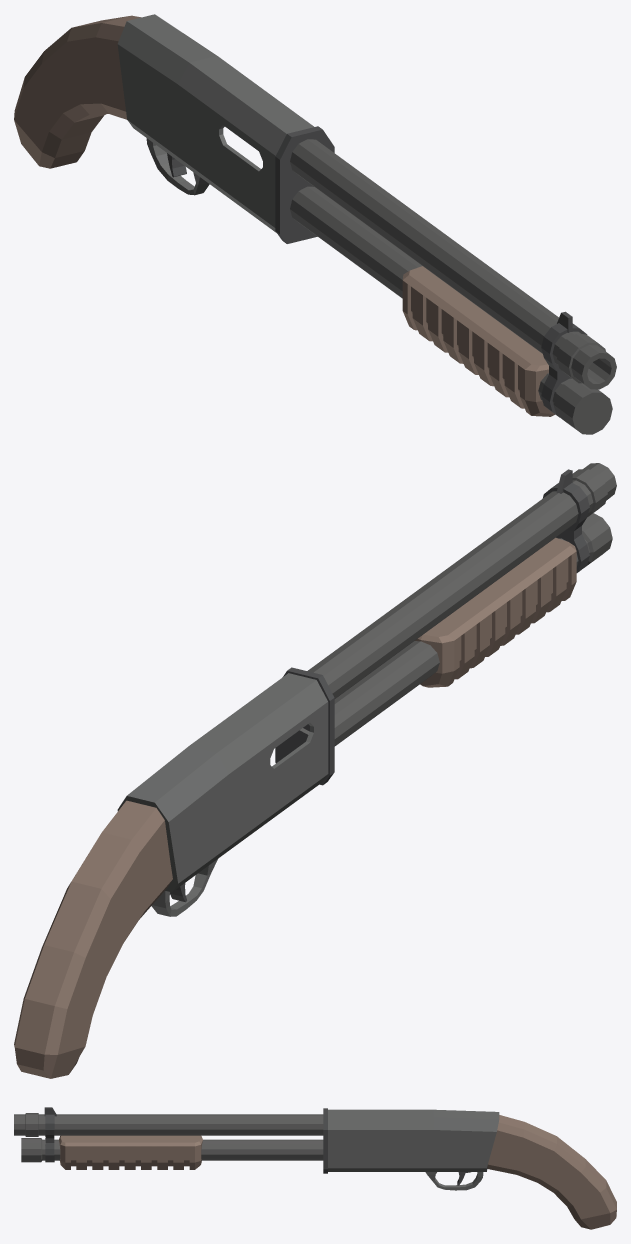
File: pompe-2.glb
The picture shows the model from 3 angles, top to bottom: view 1: azimuth 30°, elevation 25°; view 2: azimuth 150°, elevation 25°; view 3: azimuth 270°, elevation 25°; orthographic projection. The views are drawn at different scales.
Visible parts, largest first — view 1: Shotgun_ShortStock; view 2: Shotgun_ShortStock; view 3: Shotgun_ShortStock.
Part boxes in pixels (x1,y1,x2,y2): Shotgun_ShortStock: (14,14,616,434); Shotgun_ShortStock: (14,463,616,1078); Shotgun_ShortStock: (14,1107,616,1229).
Bounding box in the file's own units: 0.0551 × 0.2162 × 1.
